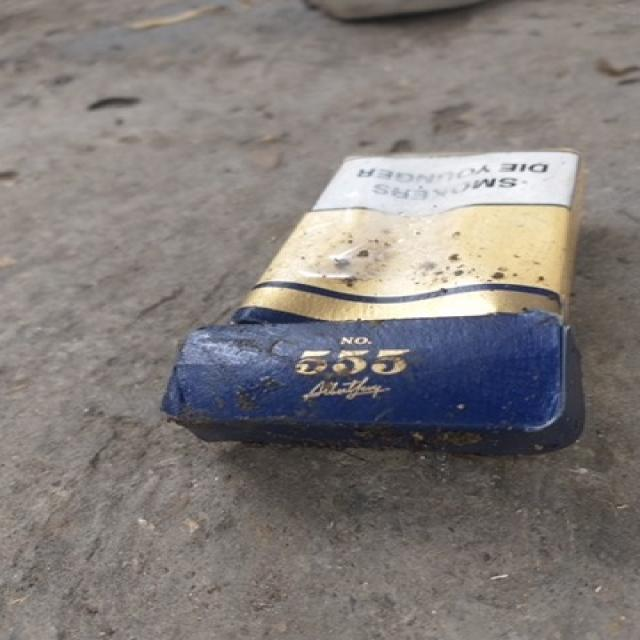PaperCardboard: (185, 150, 591, 442)
